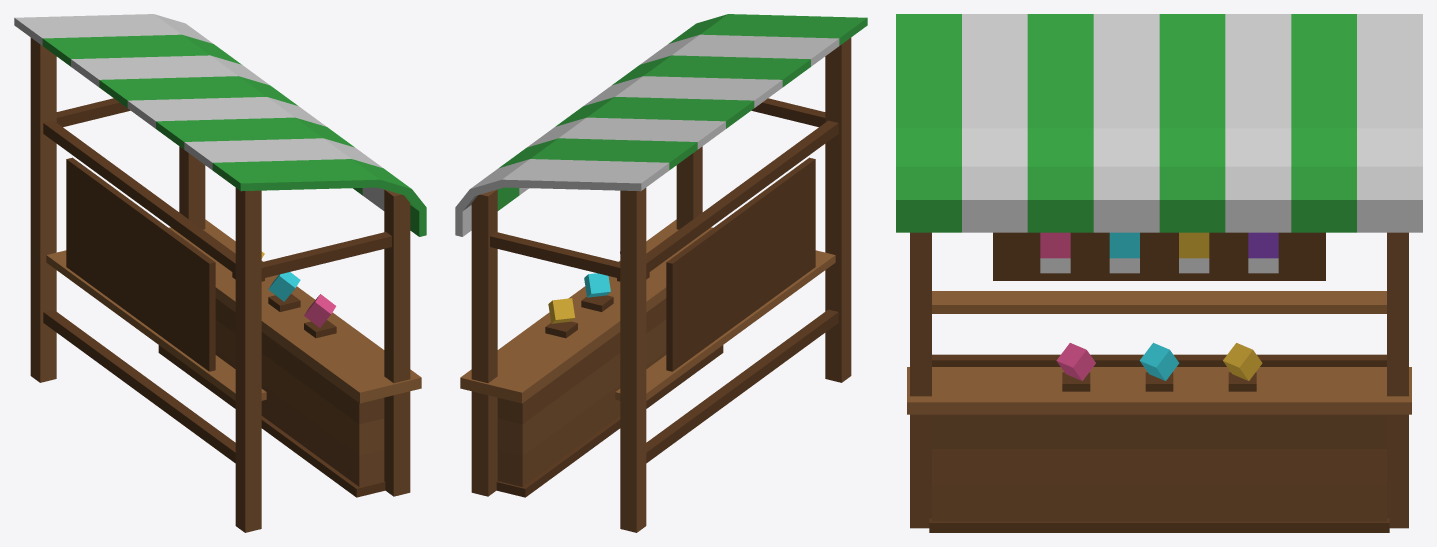
The model's file is stall_trails.glb.
The picture shows the model from 3 angles, left to right: view 1: azimuth 30°, elevation 25°; view 2: azimuth 150°, elevation 25°; view 3: azimuth 270°, elevation 25°; orthographic projection. The views are drawn at different scales.
Visible parts, largest first — view 1: stall_trails; view 2: stall_trails; view 3: stall_trails.
Boxes of the visible parts, x1,y1,x2,y2 form: stall_trails: [14, 14, 426, 532]; stall_trails: [455, 14, 867, 532]; stall_trails: [896, 14, 1422, 532].
Size of the model in its own units: 1.8 by 3.3 by 3.8.
